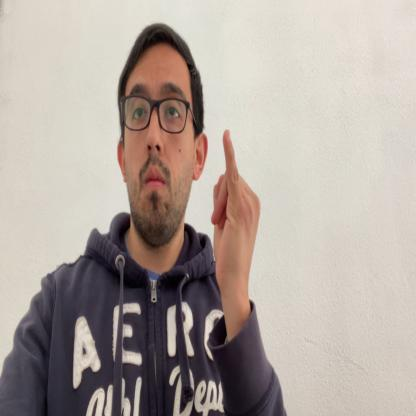I: (212, 128, 262, 305)
